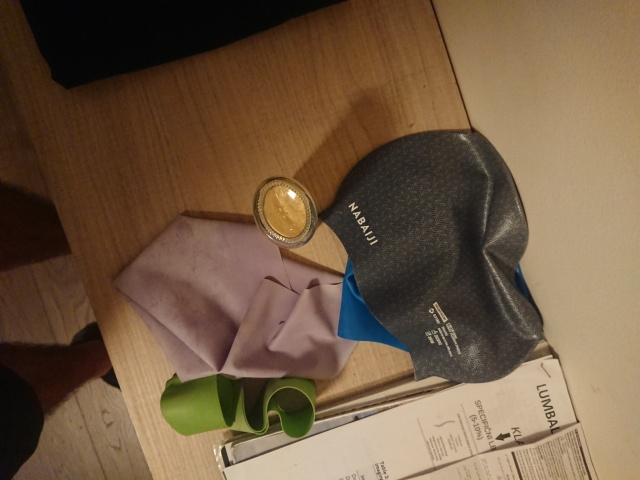Kotanyi Garlic Granules 70g: (251, 174, 321, 251)
